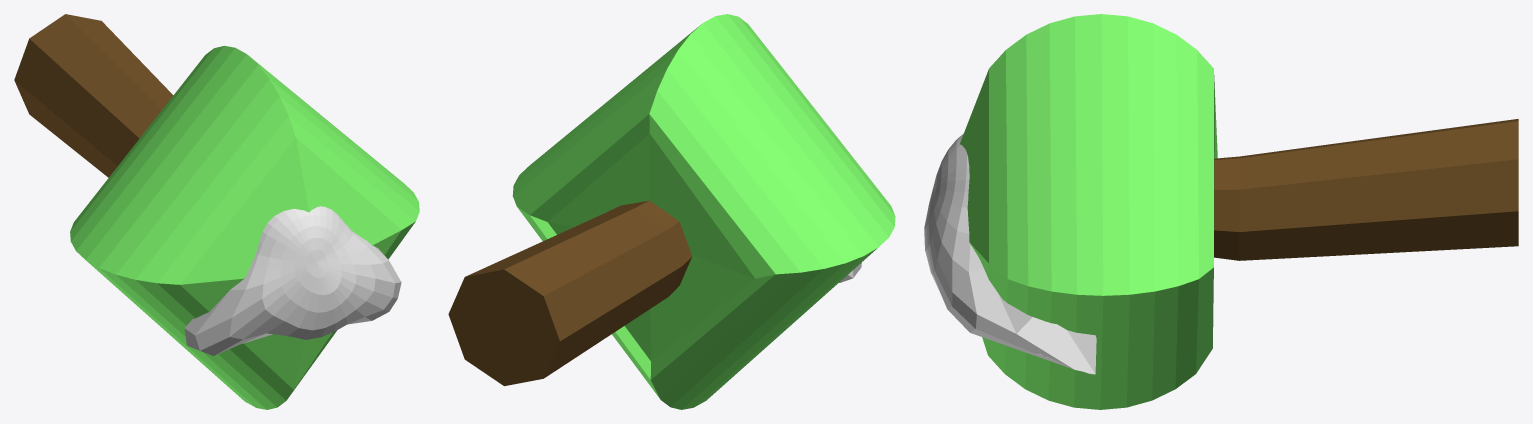
The model's file is TreeWithSnow3.fbx.
3 renders of one model, left to right at view 1: azimuth 30°, elevation 25°; view 2: azimuth 150°, elevation 25°; view 3: azimuth 270°, elevation 25°, orthographic. The views are drawn at different scales.
Visible parts, largest first — view 1: Sphere; view 2: Sphere; view 3: Sphere.
Boxes of the visible parts, box(x1,y1,x2,y2) form: Sphere: box(14, 14, 419, 409); Sphere: box(448, 14, 895, 409); Sphere: box(924, 14, 1518, 409).
Bounding box in the file's own units: 624 × 646 × 876.
